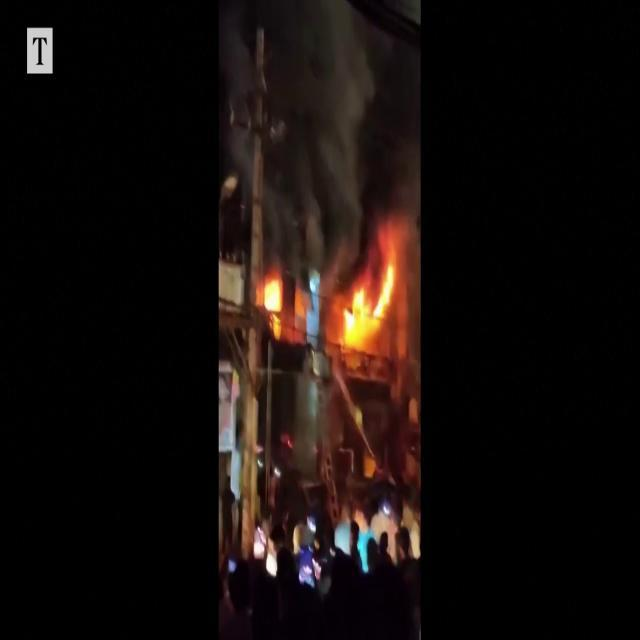Fire: (338, 243, 400, 357), (256, 265, 287, 333)
Smoke: (219, 0, 420, 260)
